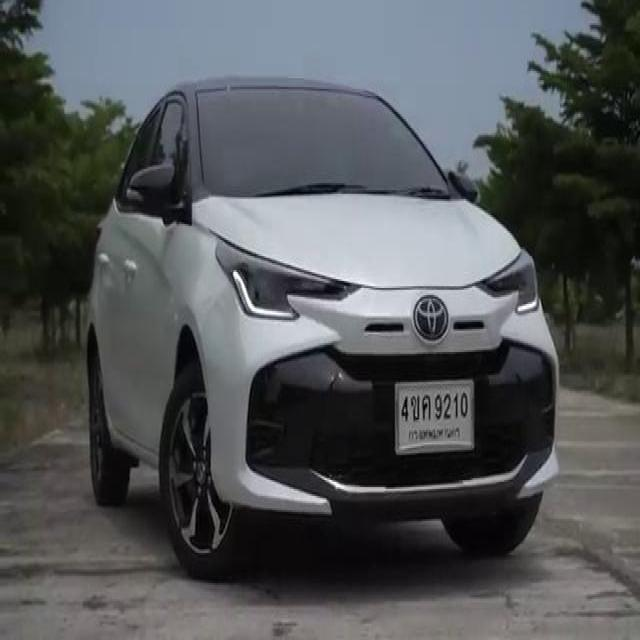Hatchback: (85, 78, 558, 578)
